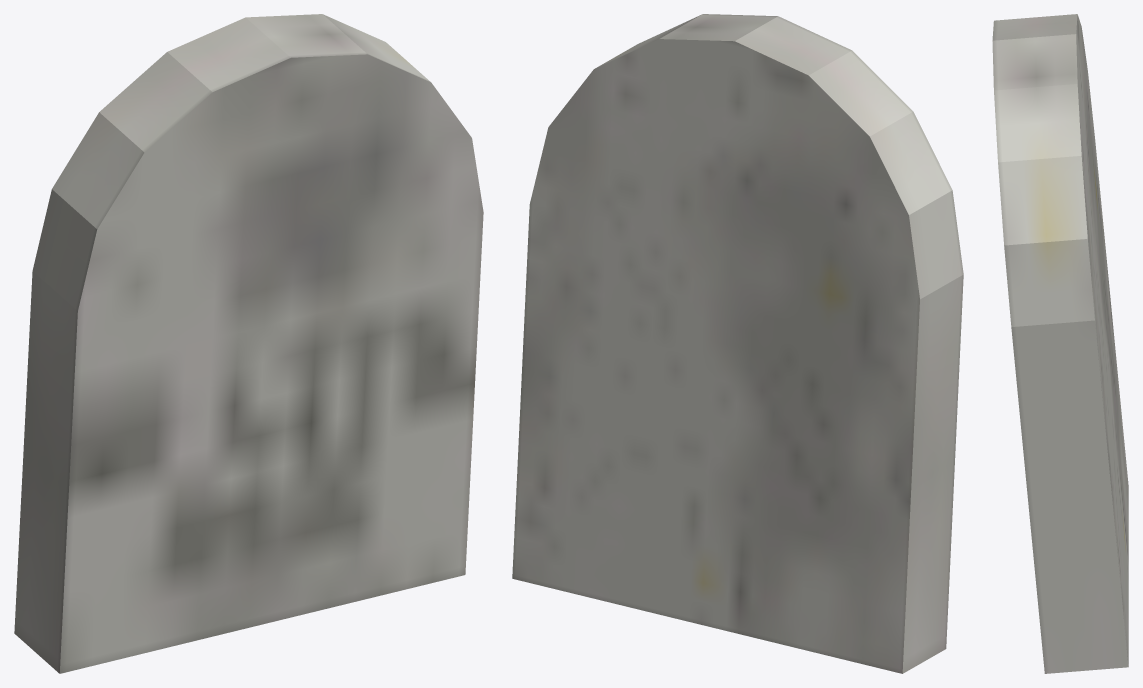
The model's file is headstone_child.obj.
3 views of the same model, side by side, from view 1: azimuth 30°, elevation 25°; view 2: azimuth 150°, elevation 25°; view 3: azimuth 270°, elevation 25° (orthographic). The views are drawn at different scales.
Visible parts, largest first — view 1: headstone_child; view 2: headstone_child; view 3: headstone_child.
Part boxes in pixels (x1=…): headstone_child: x1=14, y1=14, x2=483, y2=673; headstone_child: x1=512, y1=14, x2=963, y2=673; headstone_child: x1=992, y1=14, x2=1128, y2=673.
Size of the model in its own units: 0.36 by 0.5042 by 0.1133.
Materials: 1 (1 with a texture image).
